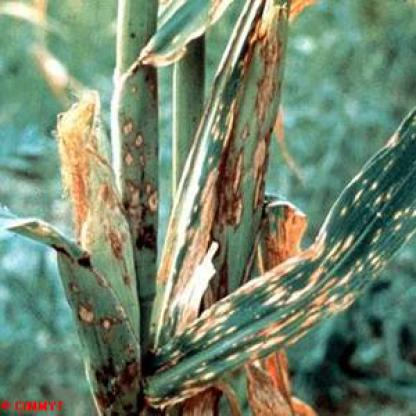corn leaf blight: (147, 103, 415, 401), (136, 3, 300, 333), (4, 201, 146, 397)
